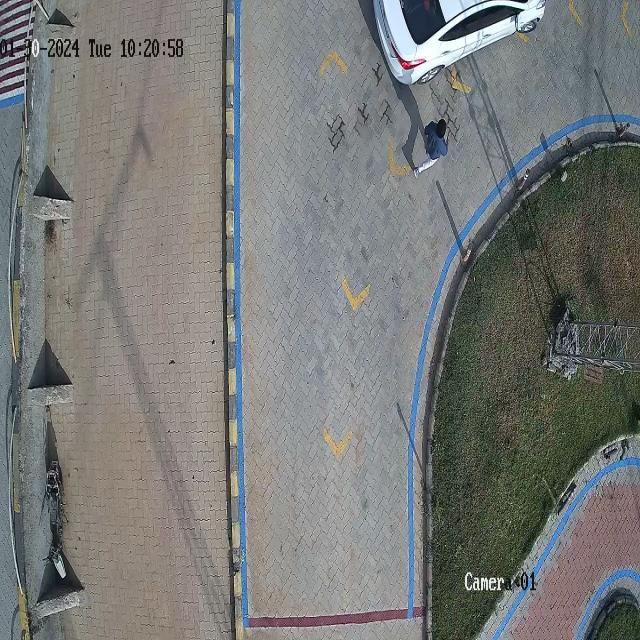car: (374, 1, 545, 84)
